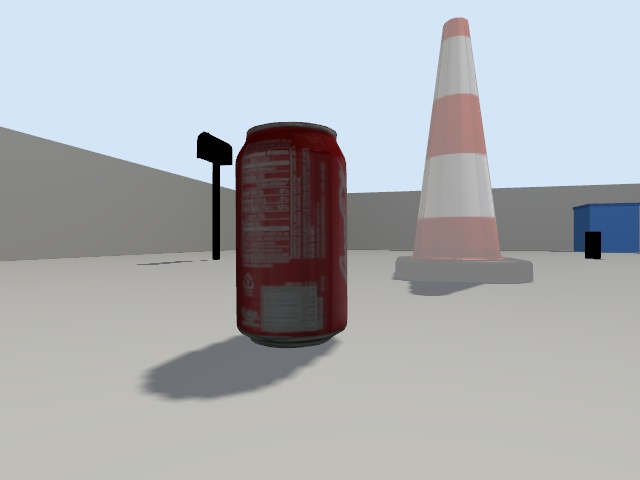boite_lettres: (197, 132, 232, 259)
bouteille_verre: (584, 231, 601, 258)
canette: (235, 122, 347, 347)
cone_chantier: (394, 18, 532, 284)
